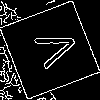V: (25, 25, 80, 73)
